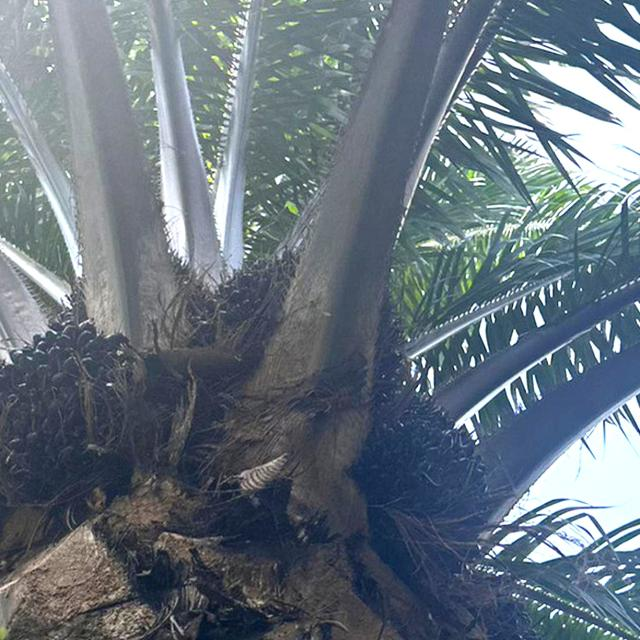unripe: (191, 242, 414, 417)
